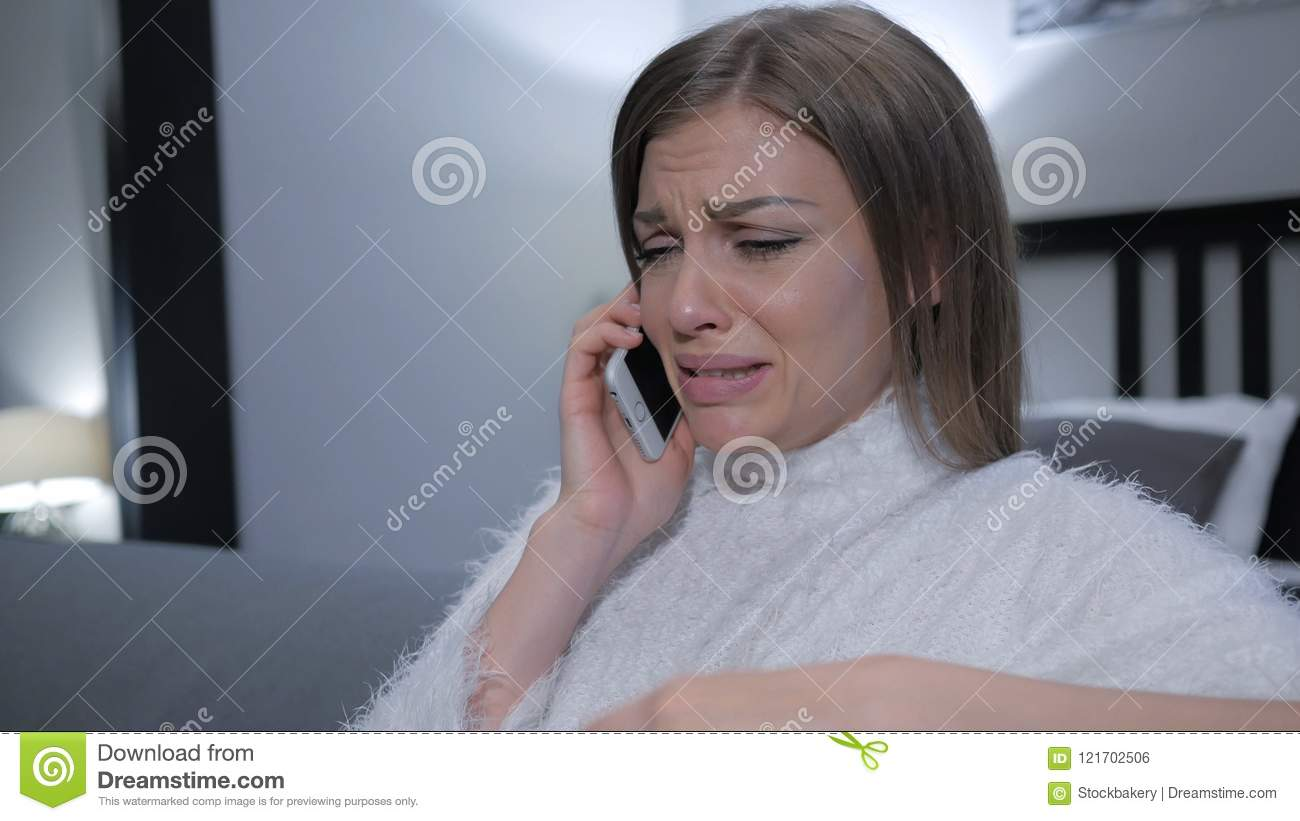phone: (607, 313, 683, 477)
talk: (560, 187, 826, 572)
